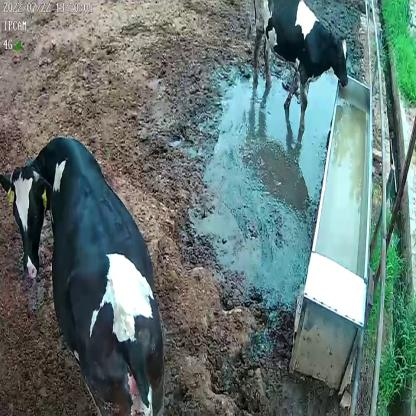cow: (0, 134, 166, 415), (248, 0, 349, 139)
